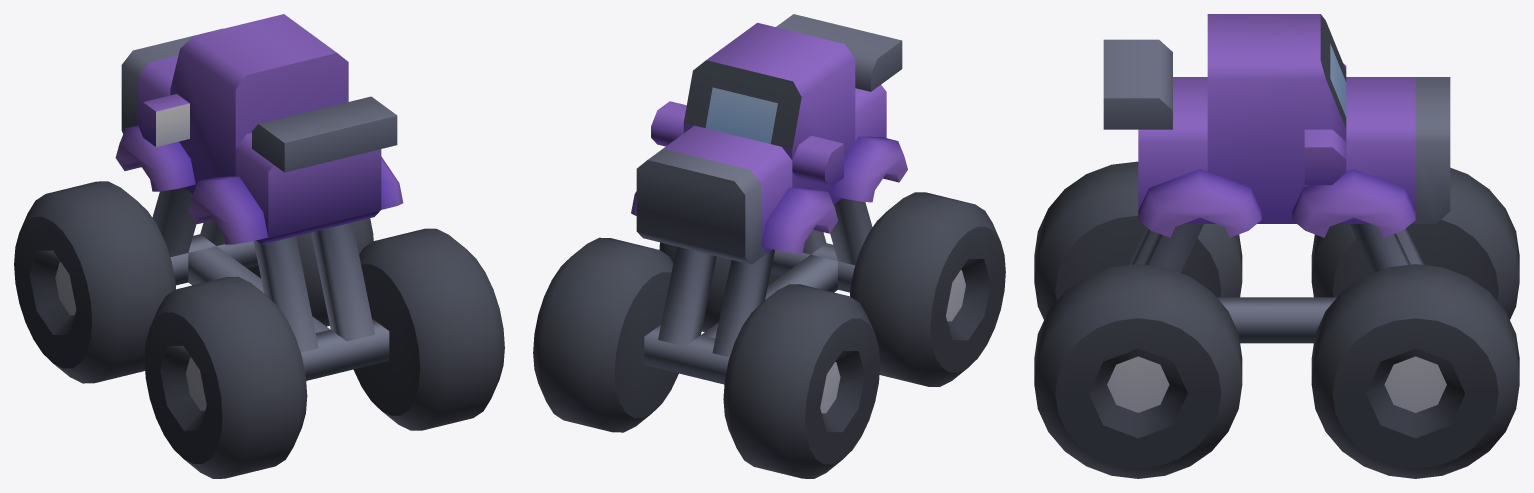
The model's file is toy-monster-truck.glb.
3 renders of one model, left to right at view 1: azimuth 30°, elevation 25°; view 2: azimuth 150°, elevation 25°; view 3: azimuth 270°, elevation 25°, orthographic. The views are drawn at different scales.
Parts seen in each view (by area): view 1: body, wheel-bl, wheel-fl, wheel-br, wheel-fr; view 2: body, wheel-fl, wheel-bl, wheel-fr, wheel-br; view 3: body, wheel-fr, wheel-br, wheel-bl, wheel-fl.
Boxes of the visible parts, <box> form: body: <box>115,14,403,380</box>; wheel-bl: <box>144,276,307,478</box>; wheel-fl: <box>14,181,175,383</box>; wheel-br: <box>353,228,504,430</box>; wheel-fr: <box>247,218,373,326</box>; body: <box>631,14,907,384</box>; wheel-fl: <box>723,284,880,478</box>; wheel-bl: <box>850,192,1005,386</box>; wheel-fr: <box>533,237,678,432</box>; wheel-br: <box>659,242,780,332</box>; body: <box>1103,14,1450,343</box>; wheel-fr: <box>1311,264,1519,478</box>; wheel-br: <box>1034,264,1242,478</box>; wheel-bl: <box>1034,161,1242,319</box>; wheel-fl: <box>1311,167,1519,319</box>.
Size of the model in its own units: 0.625 by 0.75 by 0.875.
